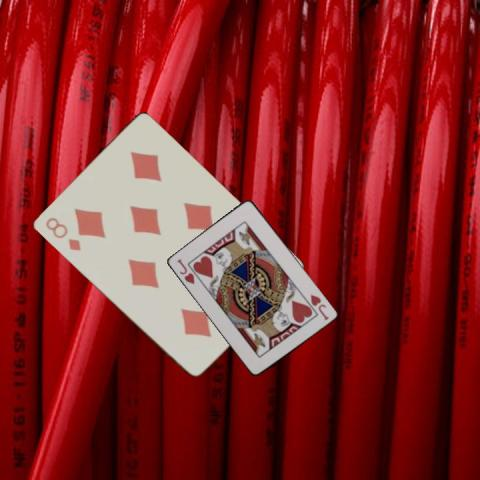8d: (42, 214, 82, 253)
Jh: (307, 291, 330, 322), (174, 256, 197, 285)
